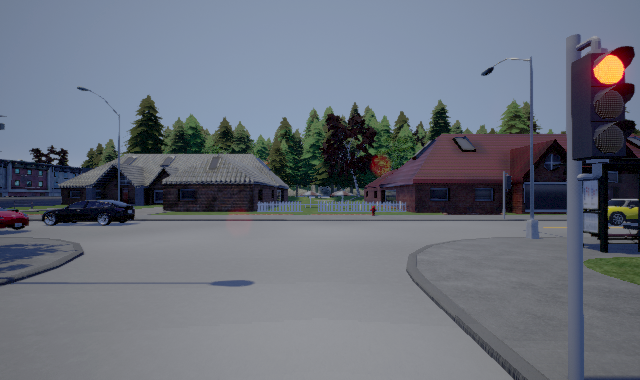traffic_light: (571, 36, 636, 181)
vehicle: (42, 200, 135, 226), (608, 199, 638, 226), (1, 207, 29, 230)
